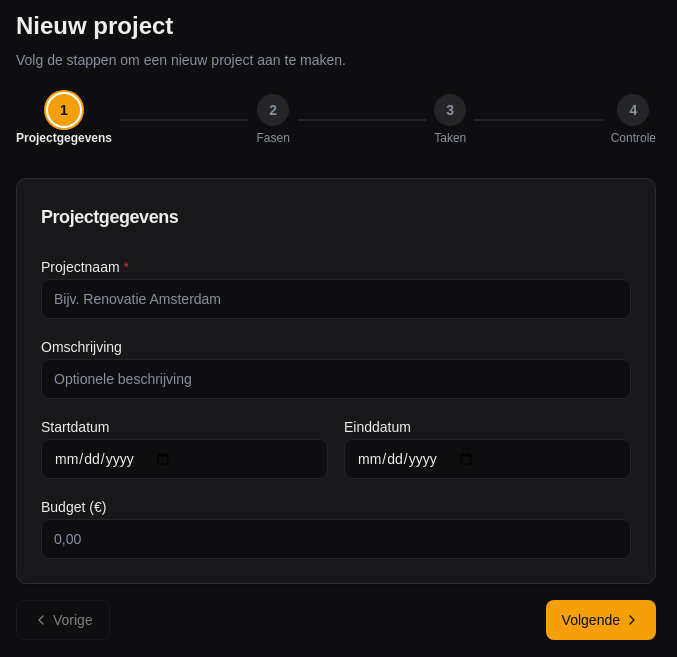
Scenario: ProjectWizard › step 1 advances to step 2 when name is filled
The width and height of the screenshot is (677, 657).
Type "Nieuwbouw Leiden" into the field labelled "Projectnaam *" at (336, 299), box top-left (41, 279), bottom-right (631, 319)
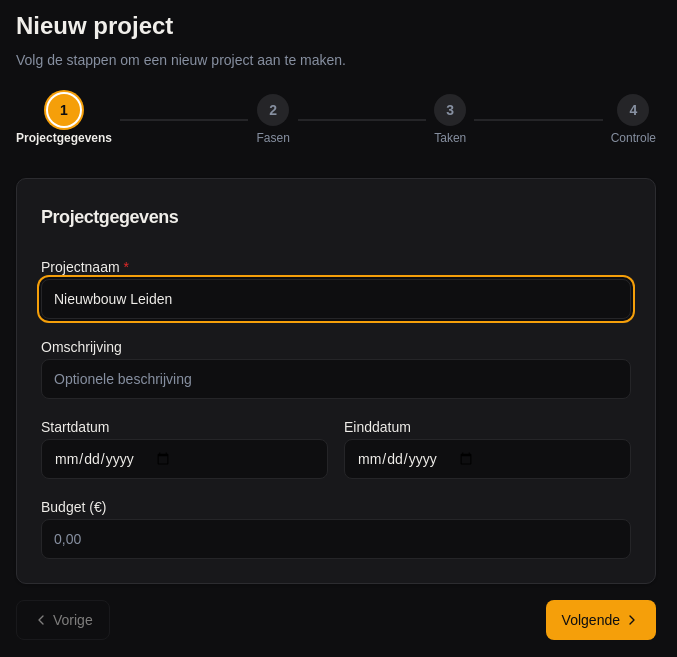
Click the button "Volgende" at (601, 620), box top-left (546, 600), bottom-right (656, 640)
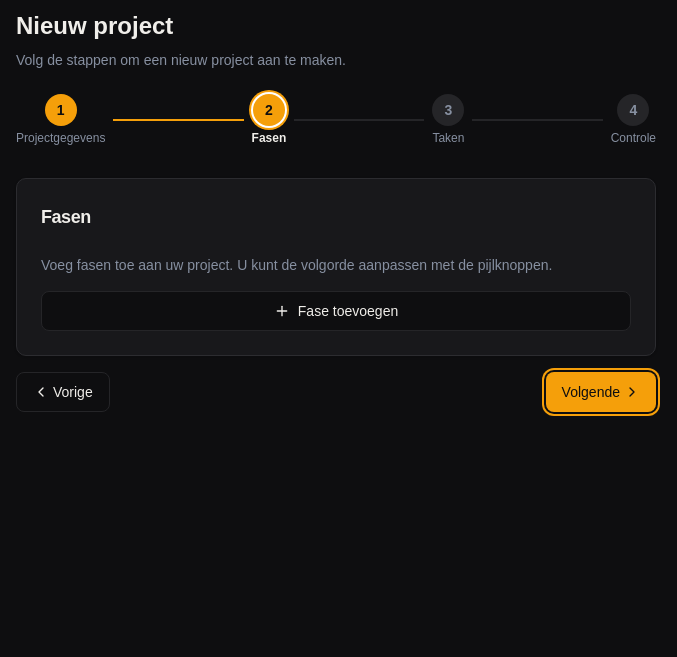
Result: the button "Fase toevoegen" is shown at top-left (41, 291), bottom-right (631, 331)
